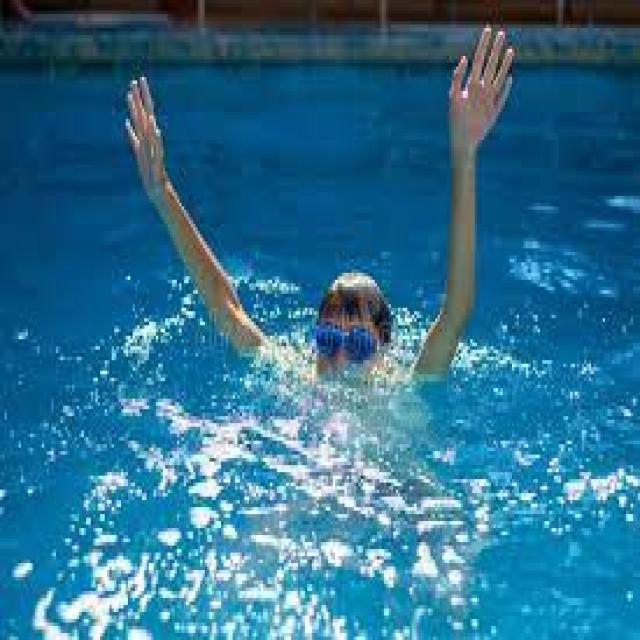Out of Water: (104, 8, 551, 500)
